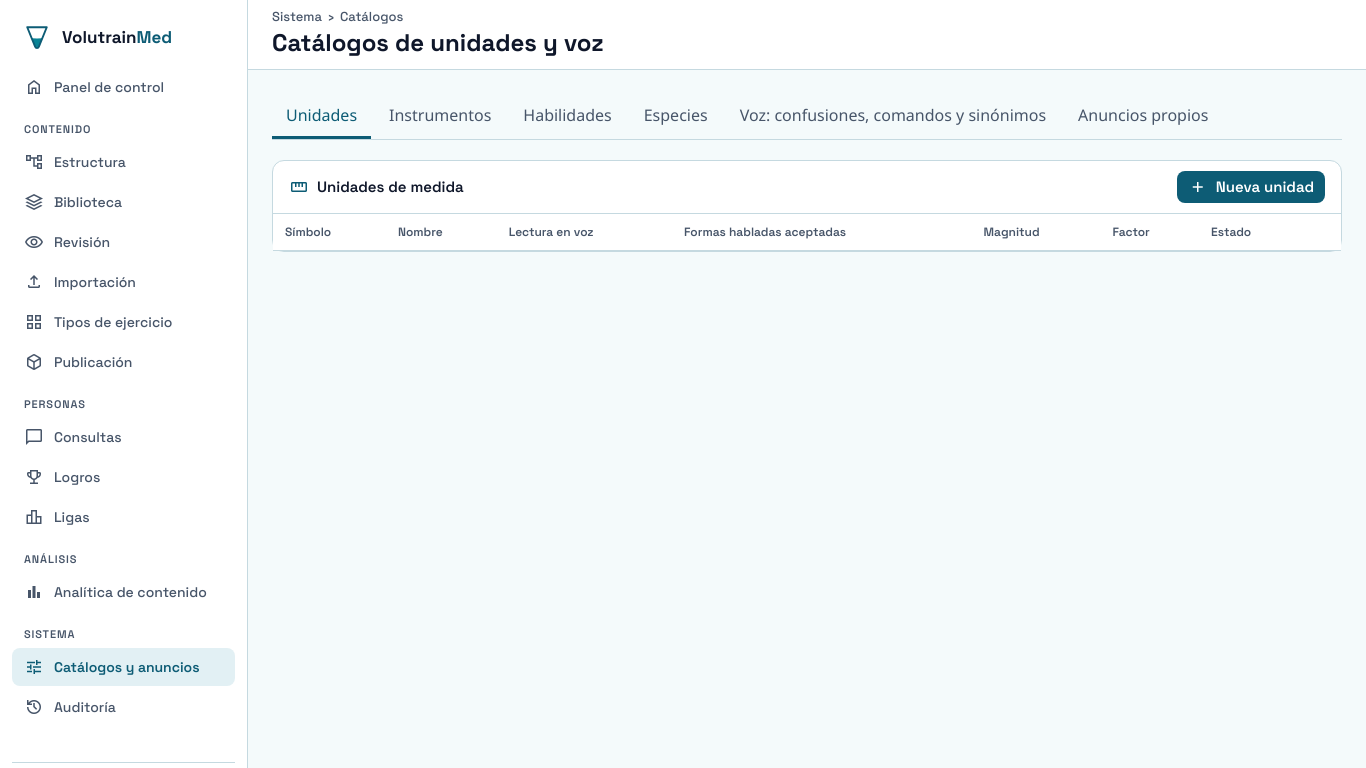
Test case: B26 · léxico de voz editable › edita las formas habladas de un comando y no deja un comando sin formas
Click the tab "Voz: confusiones, comandos y sinónimos". click: (893, 116)
box: [726, 94, 1060, 139]
(page scrolled)
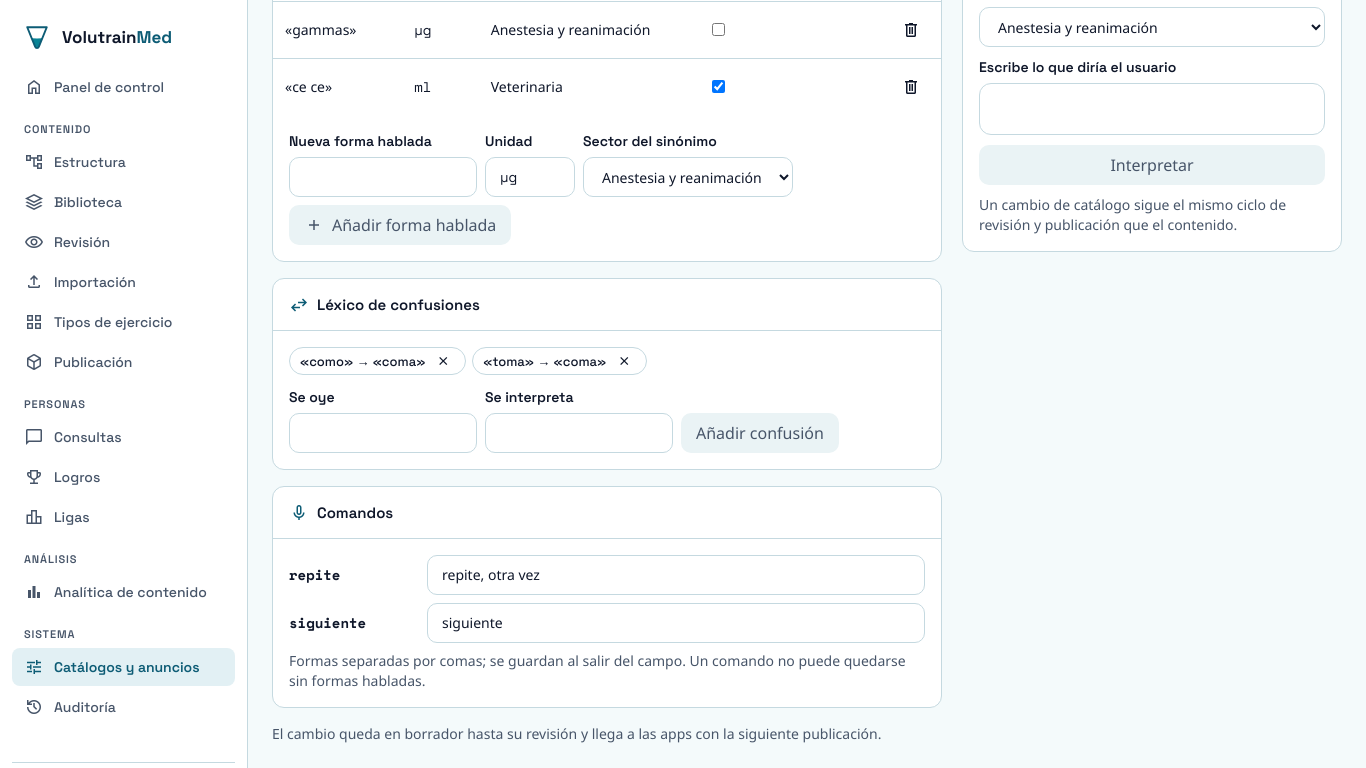
Replace the text in the field named "Formas habladas del comando siguiente" with "siguiente, Continúa , pasa". click: (676, 623)
box: [427, 603, 925, 643]
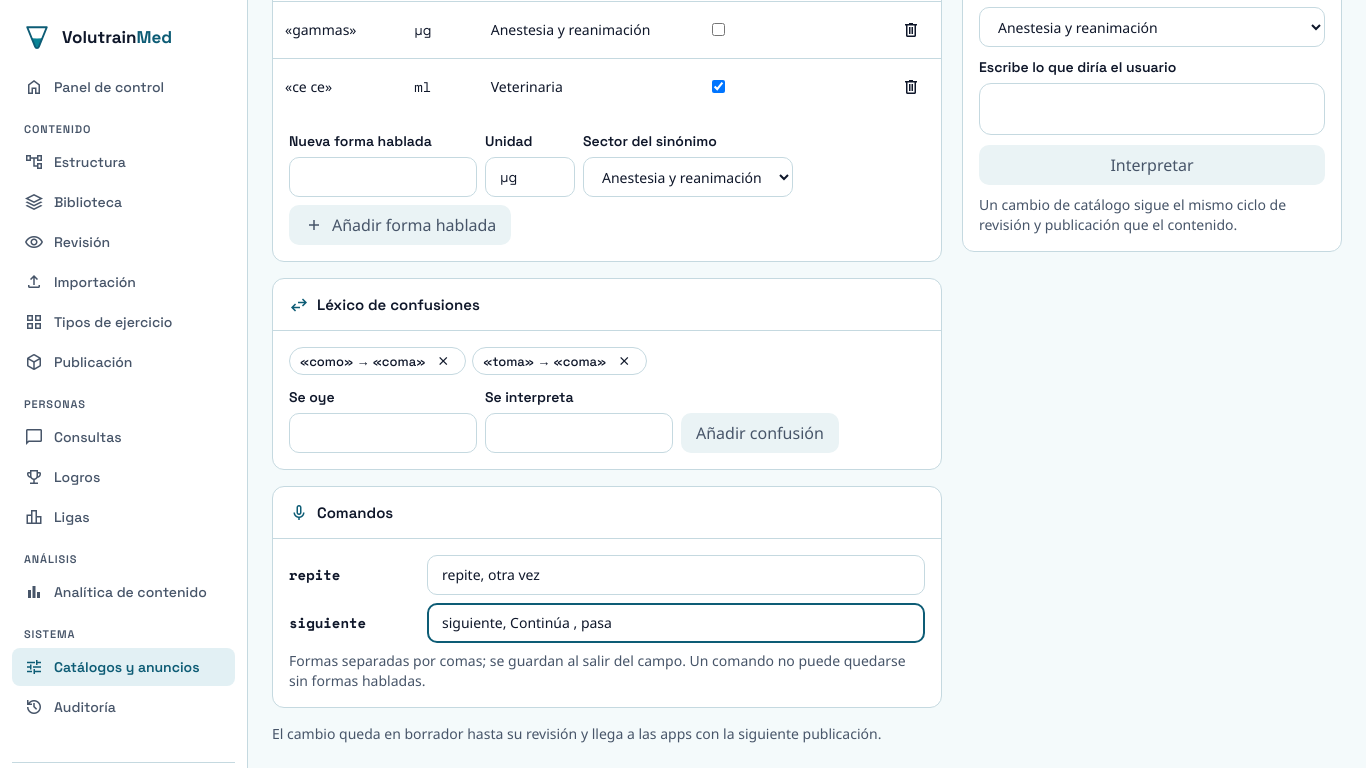
Press Tab
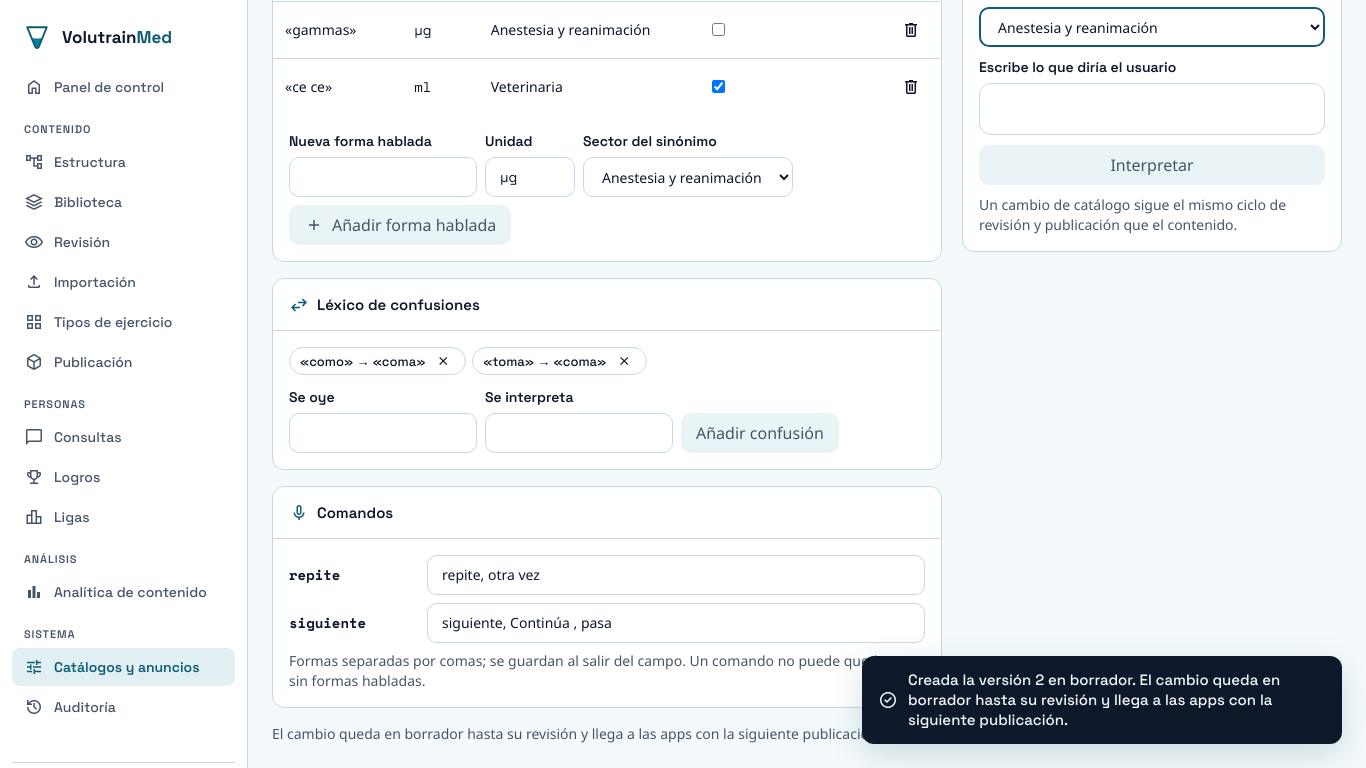
Clear the field named "Formas habladas del comando repite". click: (676, 575)
box: [427, 555, 925, 595]
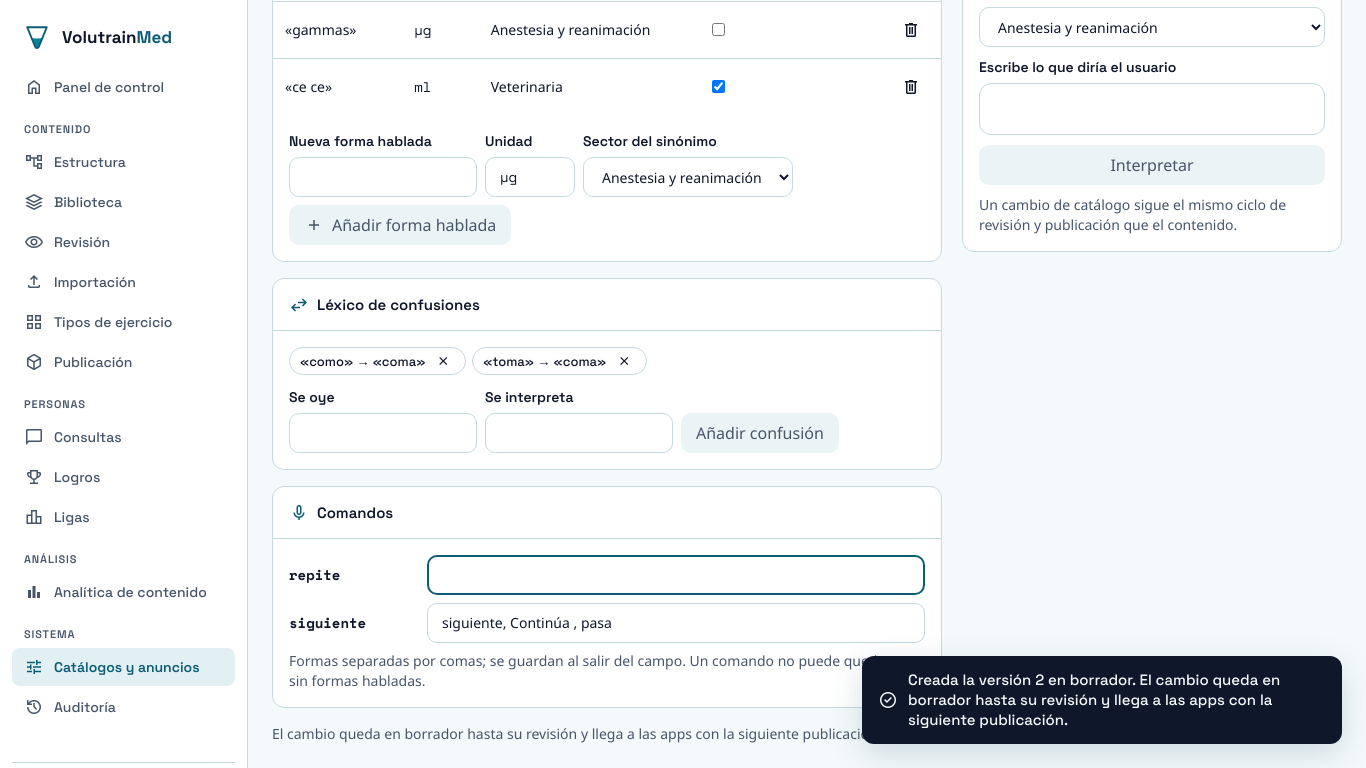
Press Tab
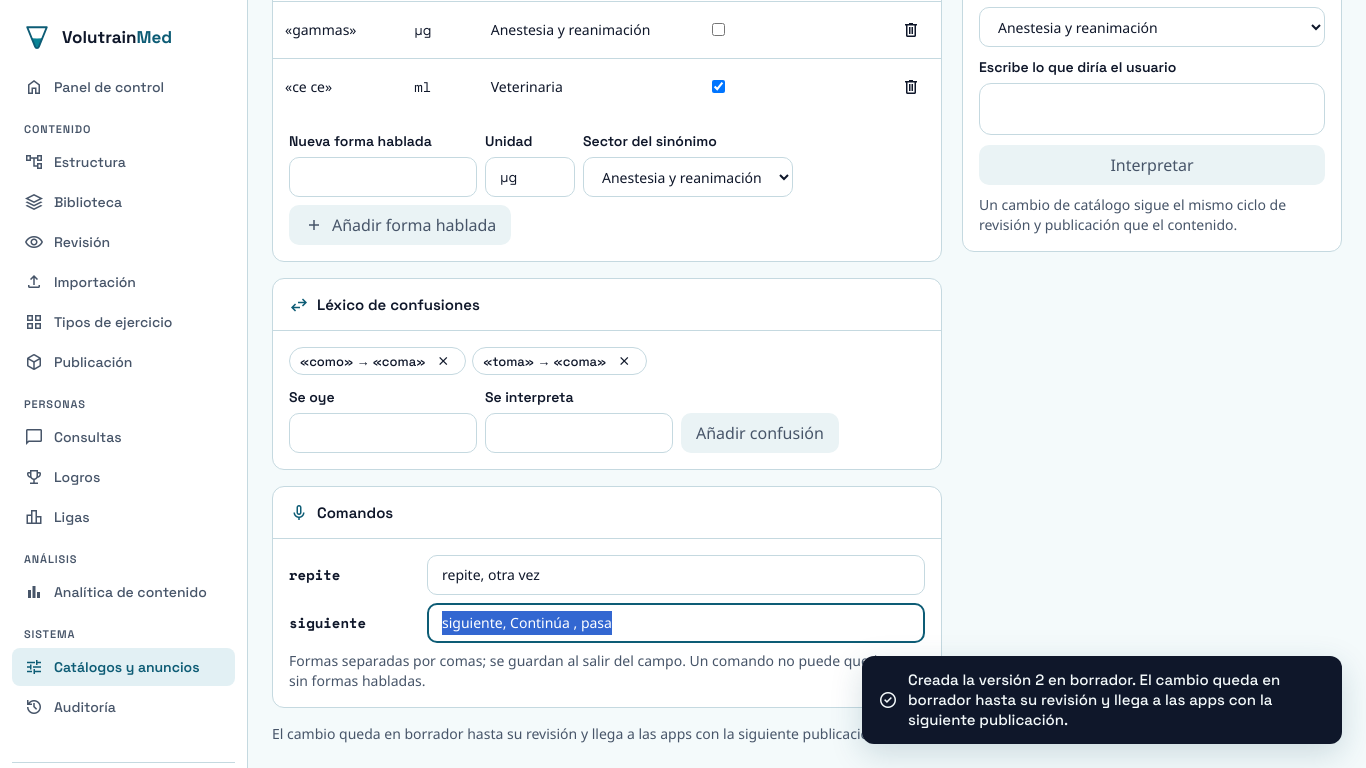
Expected: the field named "Formas habladas del comando repite" holds "repite, otra vez", [427, 555, 925, 595]
